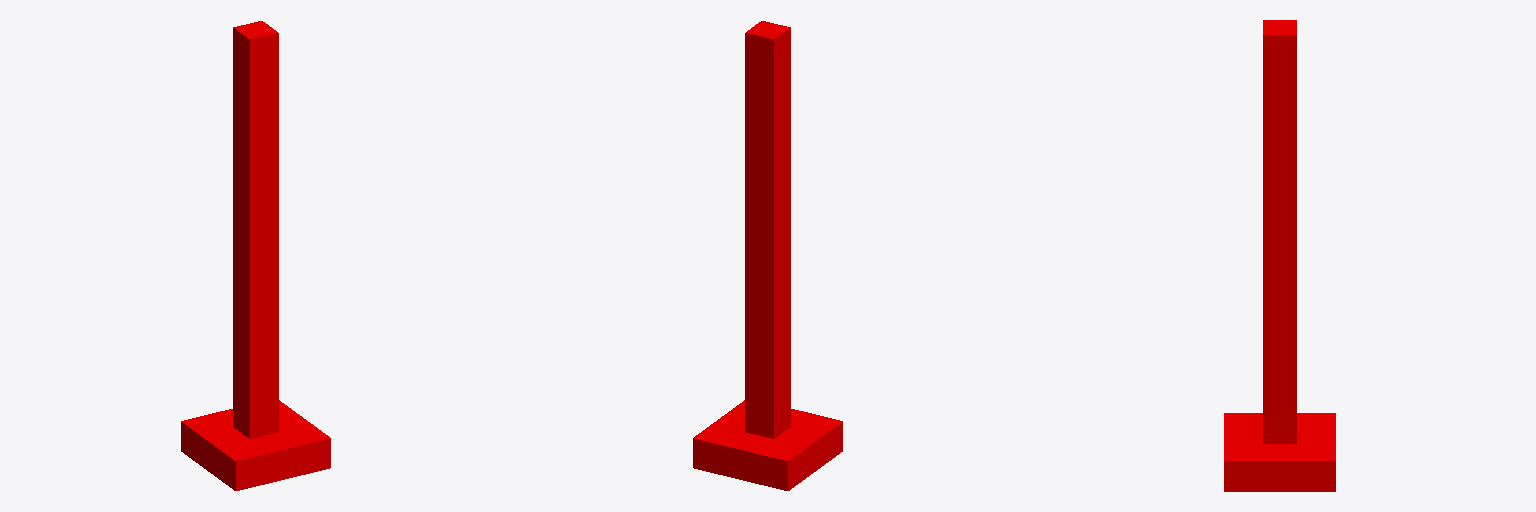
The robot description file, URDF, robot "key":
<?xml version="0.0" ?>
<robot name="key">
    <link name="baseLink">
        <inertial>
            <origin rpy="0 0 0" xyz="0 0 0"/>
            <mass value="0.02"/>
            <inertia ixx="1" ixy="0" ixz="0" iyy="1" iyz="0" izz="1"/>
        </inertial>
        <visual>
            <origin rpy="0 0 0" xyz="0.0 0.0 0.0"/>
            <geometry>
                <box size="0.1 0.1 0.03"/>
            </geometry>
            <material name="keymat0">
                <color rgba="1.0 0.0 0.0 1"/>
            </material>
        </visual>
        <collision>
            <origin rpy="0 0 0" xyz="0.0 0.0 0.0"/>
            <geometry>
                <box size="0.1 0.1 0.03"/>
            </geometry>
        </collision>
    </link>

    <joint name="joint_baseLink_handle" type="fixed">
        <parent link="baseLink"/>
        <child link="handleLink"/>
        <origin xyz="0 0 0.015"/>
    </joint>

    <link name="handleLink">
        <inertial>
            <origin rpy="0 0 0" xyz="0 0 0.2"/>
            <mass value="0.02"/>
            <inertia ixx="1" ixy="0" ixz="0" iyy="1" iyz="0" izz="1"/>
        </inertial>
        <visual>
            <origin rpy="0 0 0" xyz="0.0 0.0 0.2"/>
            <geometry>
                <box size="0.03 0.03 0.4"/>
            </geometry>
            <material name="keymat1">
                <color rgba="1.0 0.0 0.0 1"/>
            </material>
        </visual>
        <collision>
            <origin rpy="0 0 0" xyz="0.0 0.0 0.2"/>
            <geometry>
                <box size="0.03 0.03 0.4"/>
            </geometry>
        </collision>
    </link>
</robot>

--- Render facts (derived) ---
3 views of the same robot in one strip: view 1: azimuth 30°, elevation 25°; view 2: azimuth 150°, elevation 25°; view 3: azimuth 270°, elevation 25° (orthographic).
Robot: key — 2 links, 1 joints (1 fixed); root link baseLink; default pose: all joints at 0.
Links seen in each view (by area): view 1: handleLink, baseLink; view 2: handleLink, baseLink; view 3: handleLink, baseLink.
Link boxes in pixels (x1=…): handleLink: x1=233, y1=21, x2=278, y2=438; baseLink: x1=181, y1=400, x2=330, y2=490; handleLink: x1=745, y1=21, x2=790, y2=438; baseLink: x1=693, y1=400, x2=842, y2=490; handleLink: x1=1263, y1=20, x2=1296, y2=443; baseLink: x1=1224, y1=413, x2=1335, y2=491.
Size in the robot's own frame: 0.1 by 0.1 by 0.43 metres.
Geometry: primitives only (box / cylinder / sphere), no mesh files.